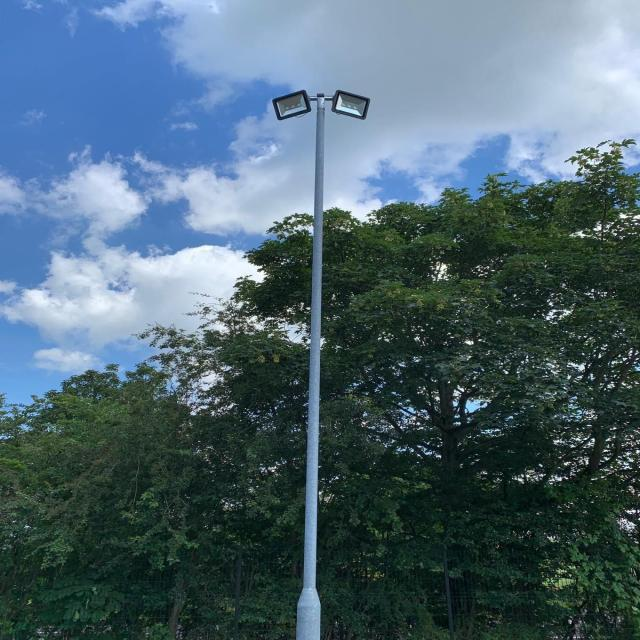off: (267, 70, 378, 130)
